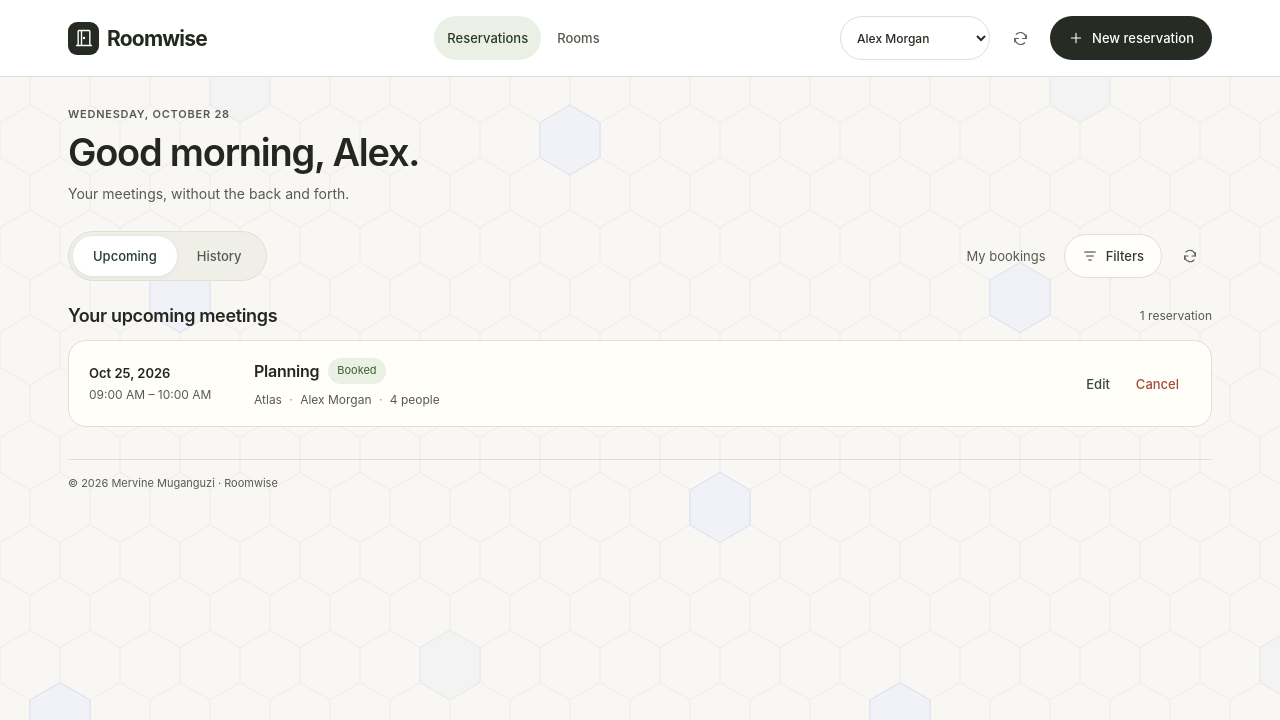
Test: workspace › shows owned actions and active counts without mixing views
Check: the heading "Planning" is shown, box [254,361,319,381]
Check: the button "Edit" is shown, box [1074,362,1122,406]
Select "Administrator" in the dropdown named "Current profile" at (915, 38), box [840,16,990,60]
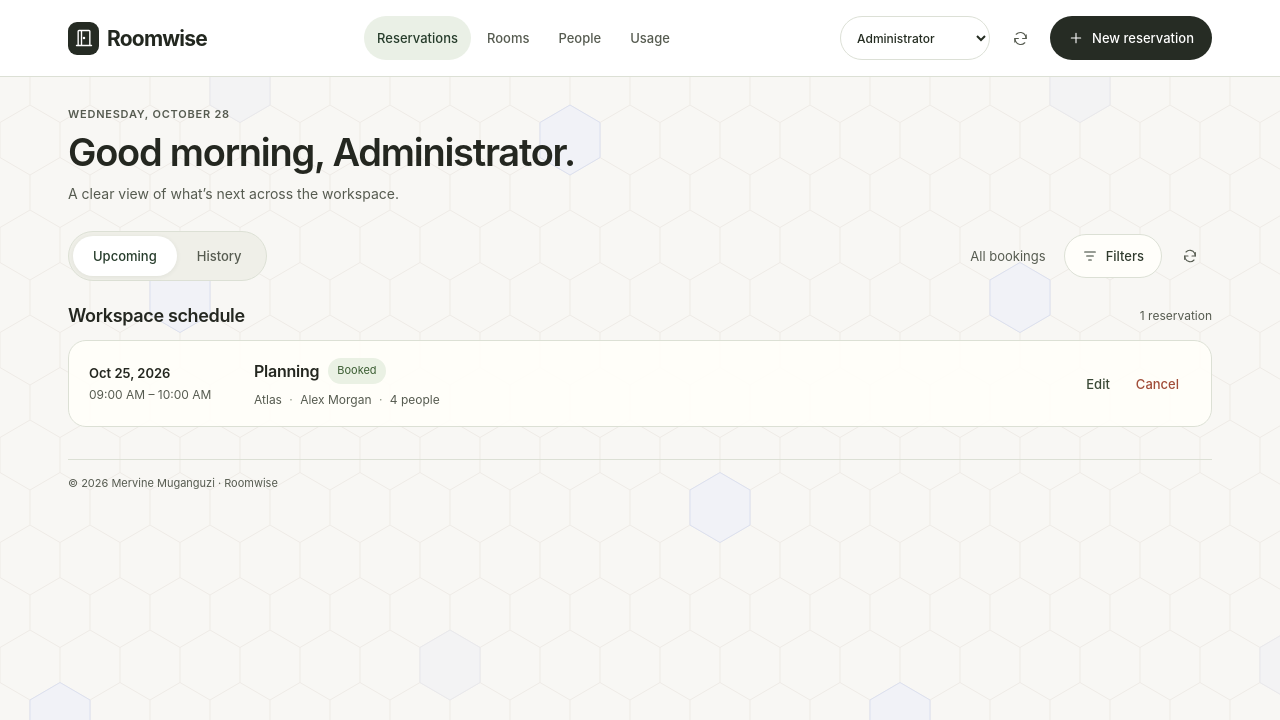
Click the button "People".
click(580, 38)  # box [546,16,614,60]
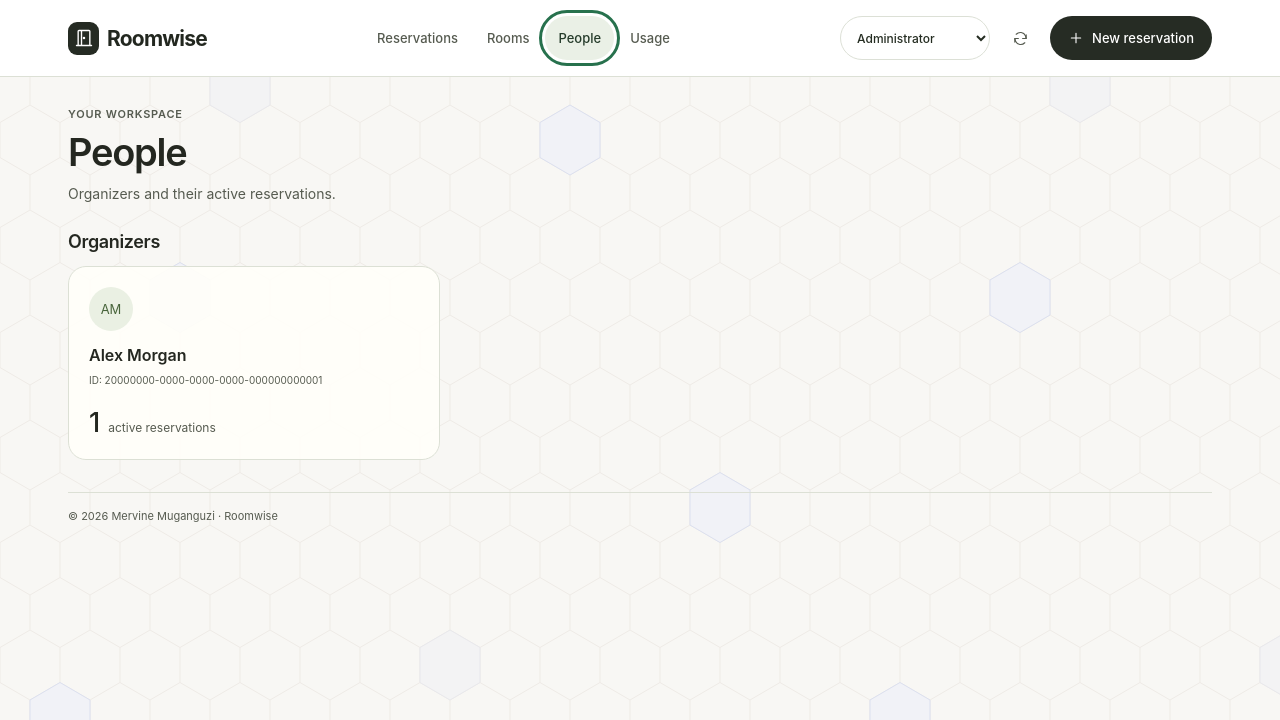
Check: the heading "Alex Morgan" is shown, box [89,345,187,365]
Check: the text "active reservations" is shown, box [108,420,216,435]
